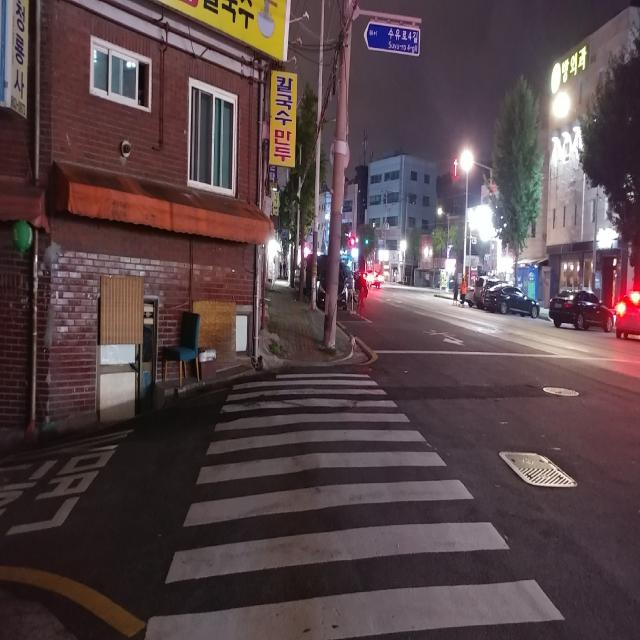횡단보도: (145, 372, 566, 640)
